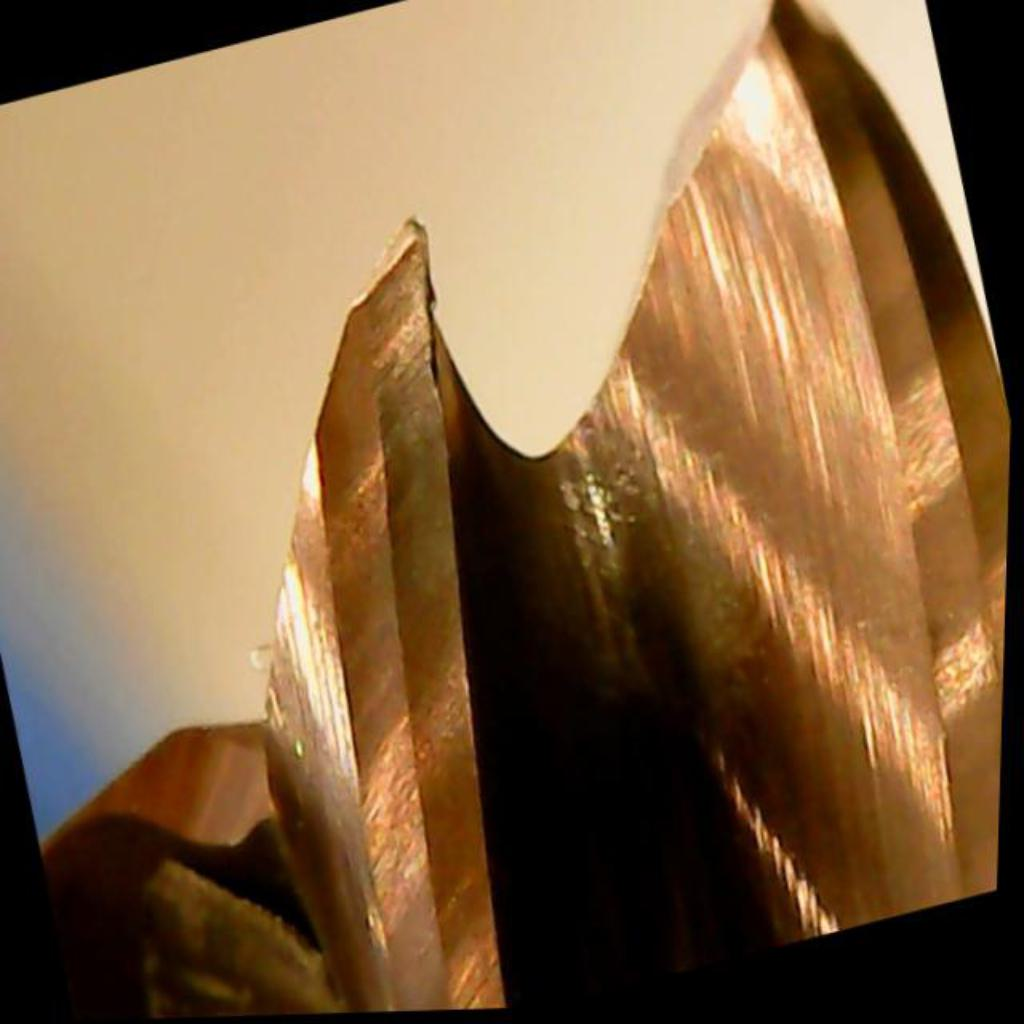Tool-wear-class-1: (238, 197, 555, 637)
